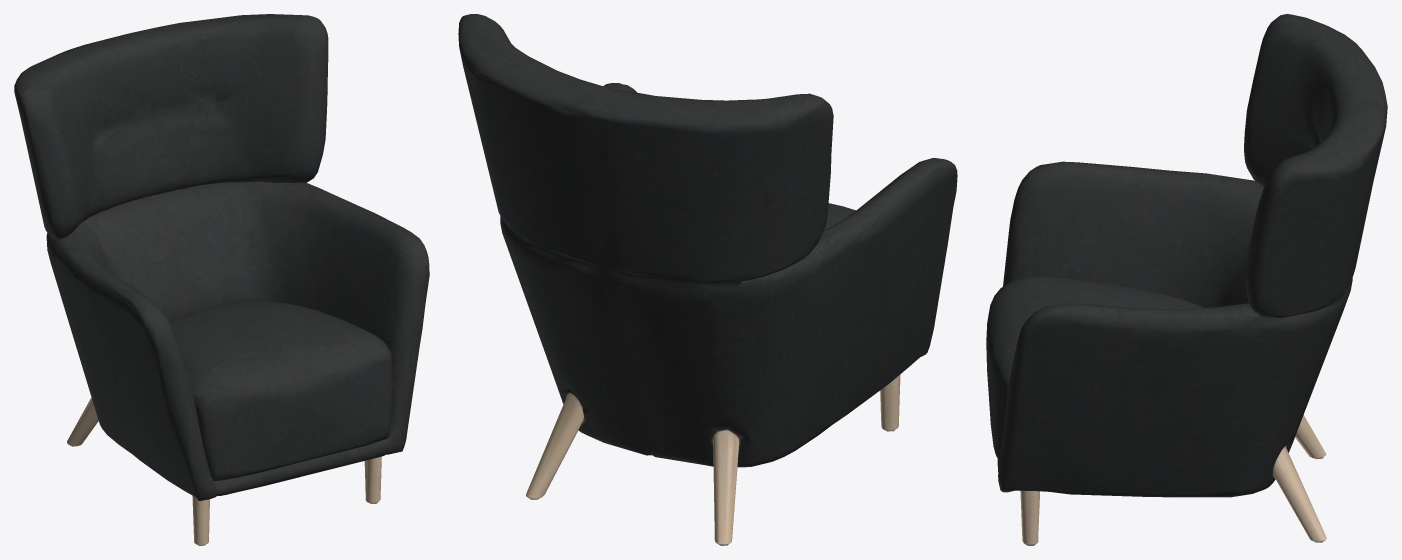
Rendered from 06 - OSKARSHAMN - 扶手椅，Gunnared 黑灰色 IKEA 線上購物.glb.
3 views of the same model, side by side, from view 1: azimuth 30°, elevation 25°; view 2: azimuth 150°, elevation 25°; view 3: azimuth 270°, elevation 25° (orthographic). The views are drawn at different scales.
Visible parts, largest first — view 1: ProcessedMeshNode; view 2: ProcessedMeshNode; view 3: ProcessedMeshNode.
Part boxes in pixels (left/top/right/bottom): ProcessedMeshNode: left=14, top=14, right=429, bottom=545; ProcessedMeshNode: left=458, top=14, right=957, bottom=545; ProcessedMeshNode: left=986, top=14, right=1387, bottom=545.
Bounding box in the file's own units: 0.8355 × 0.9944 × 0.8804.
1 material, 1 textured.
